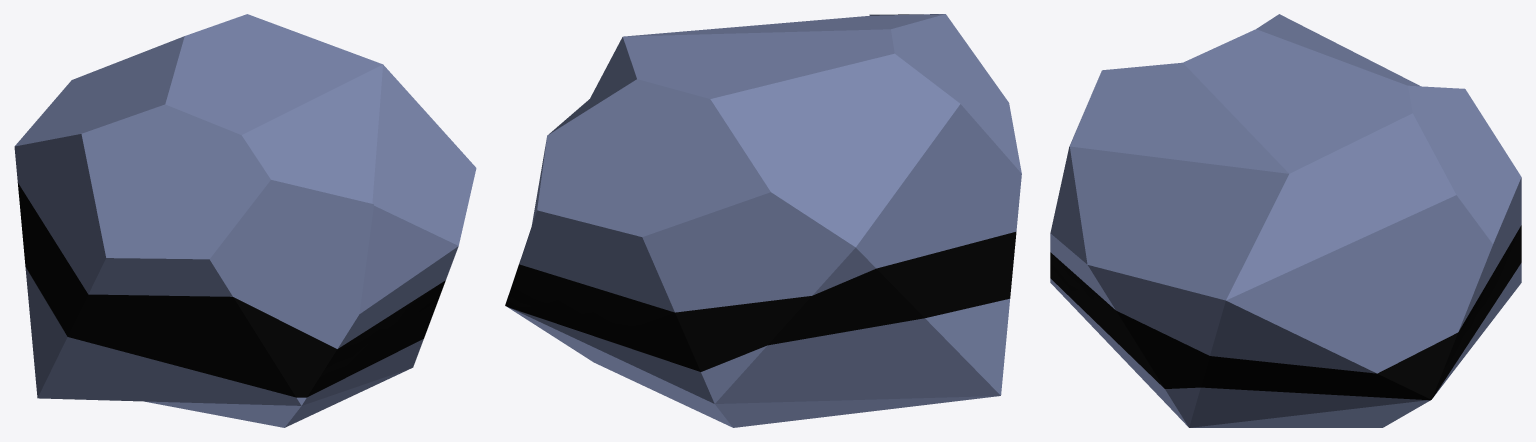
Rendered from Rock Granit Gold 02.fbx.
3 renders of one model, left to right at view 1: azimuth 30°, elevation 25°; view 2: azimuth 150°, elevation 25°; view 3: azimuth 270°, elevation 25°, orthographic. The views are drawn at different scales.
Visible parts, largest first — view 1: Rock Granit Gold 02; view 2: Rock Granit Gold 02; view 3: Rock Granit Gold 02.
Boxes of the visible parts, x1=… form: Rock Granit Gold 02: x1=14, y1=14, x2=476, y2=427; Rock Granit Gold 02: x1=505, y1=14, x2=1021, y2=427; Rock Granit Gold 02: x1=1050, y1=14, x2=1521, y2=427.
Size of the model in its own units: 156 by 106 by 155.
